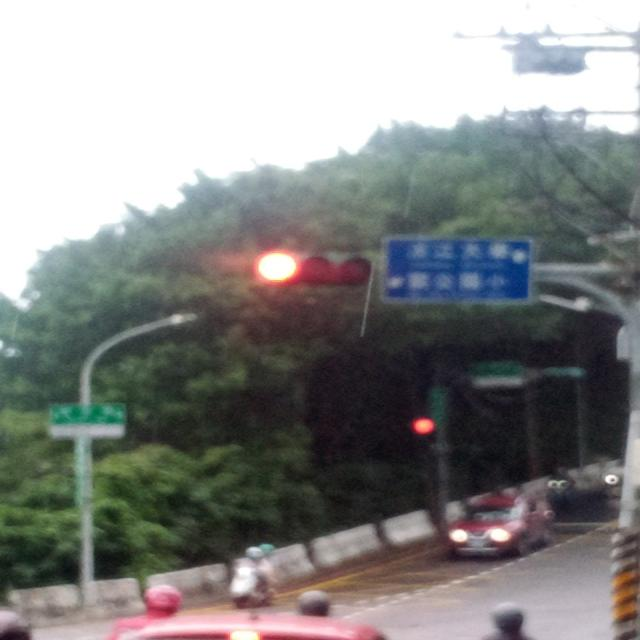red light: (256, 251, 373, 290)
